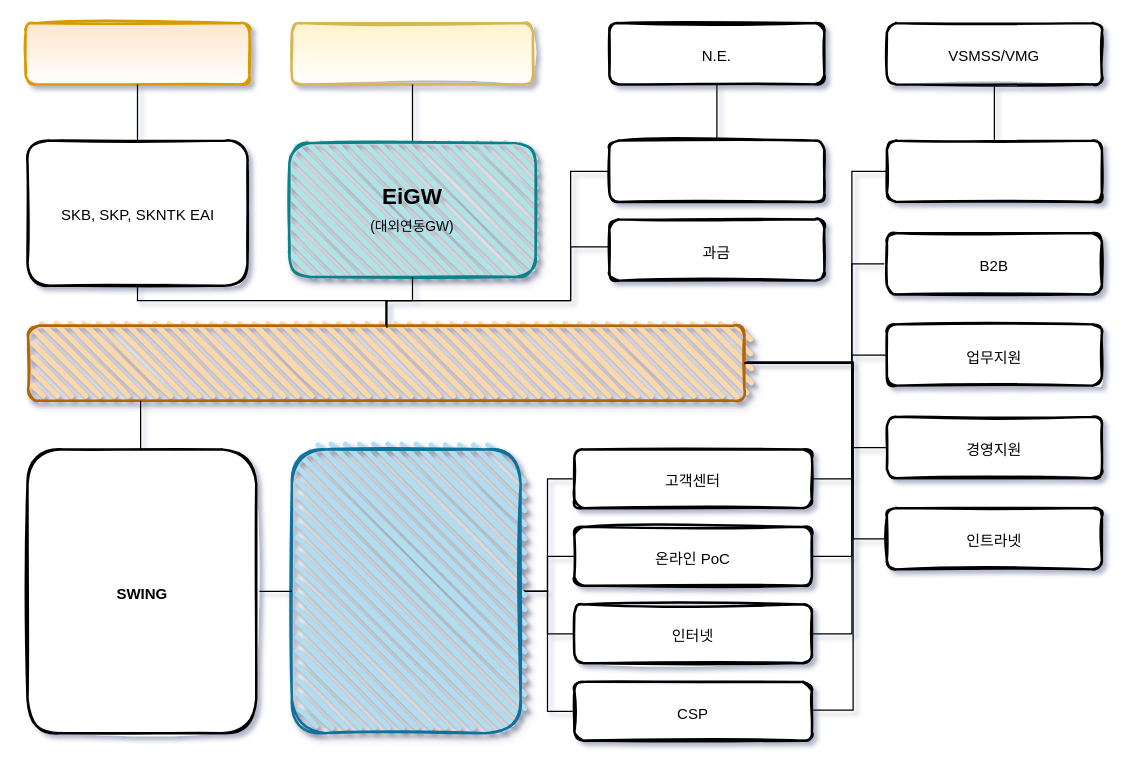
The diagram is 1131 pixels wide and 771 high, and some of its shapes have lost their labels. The centre of each missing label's shape, as x and y in pixels:
CDS: (716,170)
EAI: (386,364)
MCG (동기식): (407,592)
SKB, SKP, SKNTK: (137,53)
SMS/MMS GW: (993,170)
대외기관 (KTOA, KAIT, 보증보험, 신용평가): (412,53)
